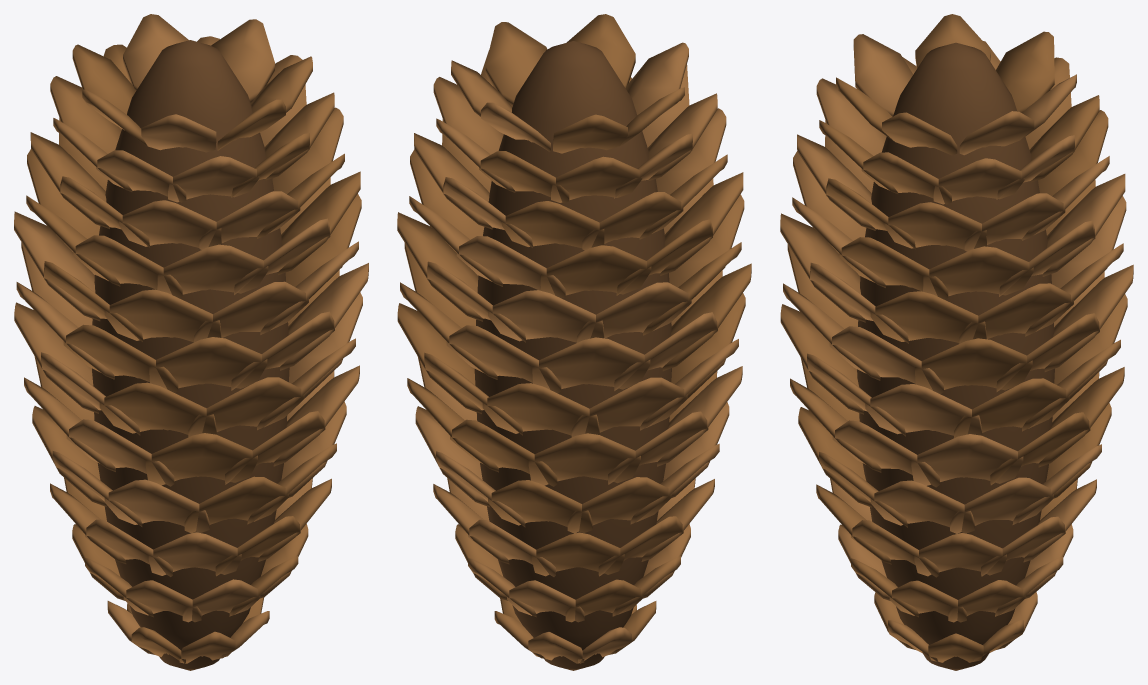
Rendered from A-NEW-20261027-PINECONE-001_LOD2_R1.glb.
3 renders of one model, left to right at view 1: azimuth 30°, elevation 25°; view 2: azimuth 150°, elevation 25°; view 3: azimuth 270°, elevation 25°, orthographic.
Parts seen in each view (by area): view 1: closed central woody core, anchored overlapping woody scale 055, anchored overlapping woody scale 063, anchored overlapping woody scale 046, anchored overlapping woody scale 038, anchored overlapping woody scale 072, anchored overlapping woody scale 047, anchored overlapping woody scale 080, anchored overlapping woody scale 064, anchored overlapping woody scale 029, anchored overlapping woody scale 054, anchored overlapping woody scale 061 (+61 smaller); view 2: closed central woody core, anchored overlapping woody scale 052, anchored overlapping woody scale 069, anchored overlapping woody scale 043, anchored overlapping woody scale 035, anchored overlapping woody scale 078, anchored overlapping woody scale 044, anchored overlapping woody scale 086, anchored overlapping woody scale 061, anchored overlapping woody scale 099, anchored overlapping woody scale 026, anchored overlapping woody scale 060 (+61 smaller); view 3: closed central woody core, anchored overlapping woody scale 058, anchored overlapping woody scale 066, anchored overlapping woody scale 049, anchored overlapping woody scale 041, anchored overlapping woody scale 075, anchored overlapping woody scale 050, anchored overlapping woody scale 083, anchored overlapping woody scale 102, anchored overlapping woody scale 067, anchored overlapping woody scale 097, anchored overlapping woody scale 032 (+62 smaller).
Boxes of the visible parts, x1,y1,x2,y2 form: closed central woody core: [92, 40, 289, 670]; anchored overlapping woody scale 055: [149, 337, 267, 389]; anchored overlapping woody scale 063: [104, 289, 221, 342]; anchored overlapping woody scale 046: [99, 382, 216, 434]; anchored overlapping woody scale 038: [145, 433, 257, 485]; anchored overlapping woody scale 072: [157, 244, 268, 294]; anchored overlapping woody scale 047: [188, 377, 304, 437]; anchored overlapping woody scale 080: [119, 200, 221, 247]; anchored overlapping woody scale 064: [194, 281, 308, 342]; anchored overlapping woody scale 029: [104, 479, 209, 532]; anchored overlapping woody scale 054: [63, 324, 178, 392]; anchored overlapping woody scale 061: [14, 211, 100, 321]; closed central woody core: [474, 41, 671, 670]; anchored overlapping woody scale 052: [532, 337, 650, 389]; anchored overlapping woody scale 069: [488, 290, 604, 342]; anchored overlapping woody scale 043: [482, 383, 599, 435]; anchored overlapping woody scale 035: [528, 433, 640, 485]; anchored overlapping woody scale 078: [540, 245, 651, 295]; anchored overlapping woody scale 044: [571, 377, 687, 437]; anchored overlapping woody scale 086: [502, 201, 604, 248]; anchored overlapping woody scale 061: [577, 282, 691, 342]; anchored overlapping woody scale 099: [485, 22, 547, 106]; anchored overlapping woody scale 026: [488, 480, 592, 533]; anchored overlapping woody scale 060: [446, 325, 561, 393]; closed central woody core: [857, 42, 1054, 670]; anchored overlapping woody scale 058: [915, 338, 1032, 390]; anchored overlapping woody scale 066: [870, 291, 986, 343]; anchored overlapping woody scale 049: [865, 384, 982, 435]; anchored overlapping woody scale 041: [911, 434, 1023, 485]; anchored overlapping woody scale 075: [923, 246, 1033, 296]; anchored overlapping woody scale 050: [954, 378, 1069, 438]; anchored overlapping woody scale 083: [884, 202, 986, 249]; anchored overlapping woody scale 102: [996, 31, 1054, 112]; anchored overlapping woody scale 067: [959, 283, 1073, 343]; anchored overlapping woody scale 097: [853, 34, 913, 116]; anchored overlapping woody scale 032: [870, 480, 974, 533].
Bounding box in the file's own units: 0.0886 × 0.174 × 0.0887.
